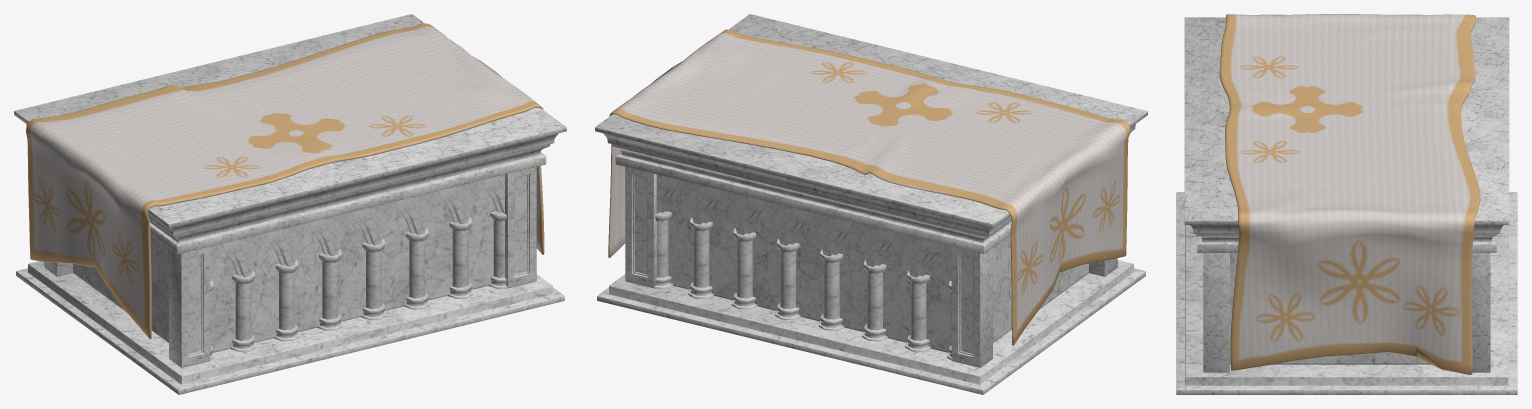
Rendered from Altar.fbx.
3 views of the same model, side by side, from view 1: azimuth 30°, elevation 25°; view 2: azimuth 150°, elevation 25°; view 3: azimuth 270°, elevation 25° (orthographic). The views are drawn at different scales.
Parts seen in each view (by area): view 1: Altar; view 2: Altar; view 3: Altar.
Boxes of the visible parts, x1,y1,x2,y2 form: Altar: (14, 14, 566, 394); Altar: (595, 14, 1147, 394); Altar: (1176, 14, 1517, 394).
Bounding box in the file's own units: 3.16 × 1.29 × 2.18.
